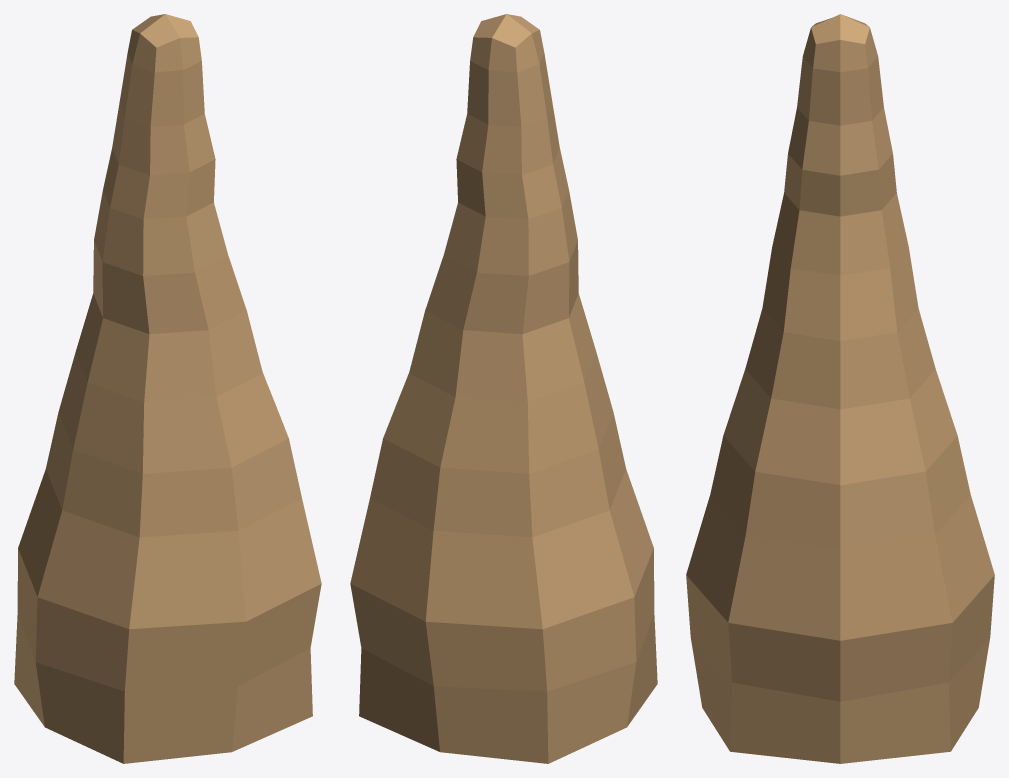
The model's file is stalagmite_small.fbx.
3 views of the same model, side by side, from view 1: azimuth 30°, elevation 25°; view 2: azimuth 150°, elevation 25°; view 3: azimuth 270°, elevation 25° (orthographic).
Parts seen in each view (by area): view 1: Cube.002; view 2: Cube.002; view 3: Cube.002.
Boxes of the visible parts, left/top/right/bottom form: Cube.002: left=14, top=14, right=321, bottom=763; Cube.002: left=350, top=14, right=657, bottom=763; Cube.002: left=686, top=14, right=994, bottom=763.
Size of the model in its own units: 40.55 by 99.98 by 40.27.
